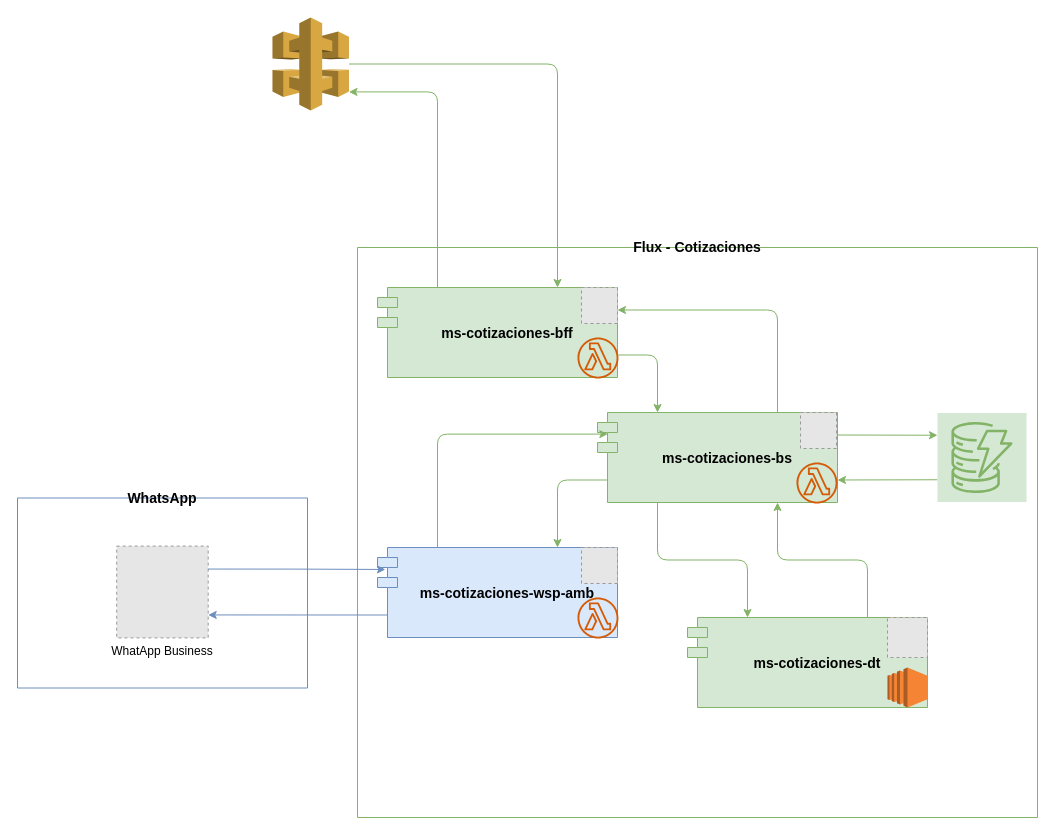
Image size: 1055x835. Some labels were removed from this diagram. Grey dashed boxes stand in for pictures. Each missing label, with the centre of its shape:
Api Gateway: point (310, 63)
db-cotizaciones: point (981, 457)
